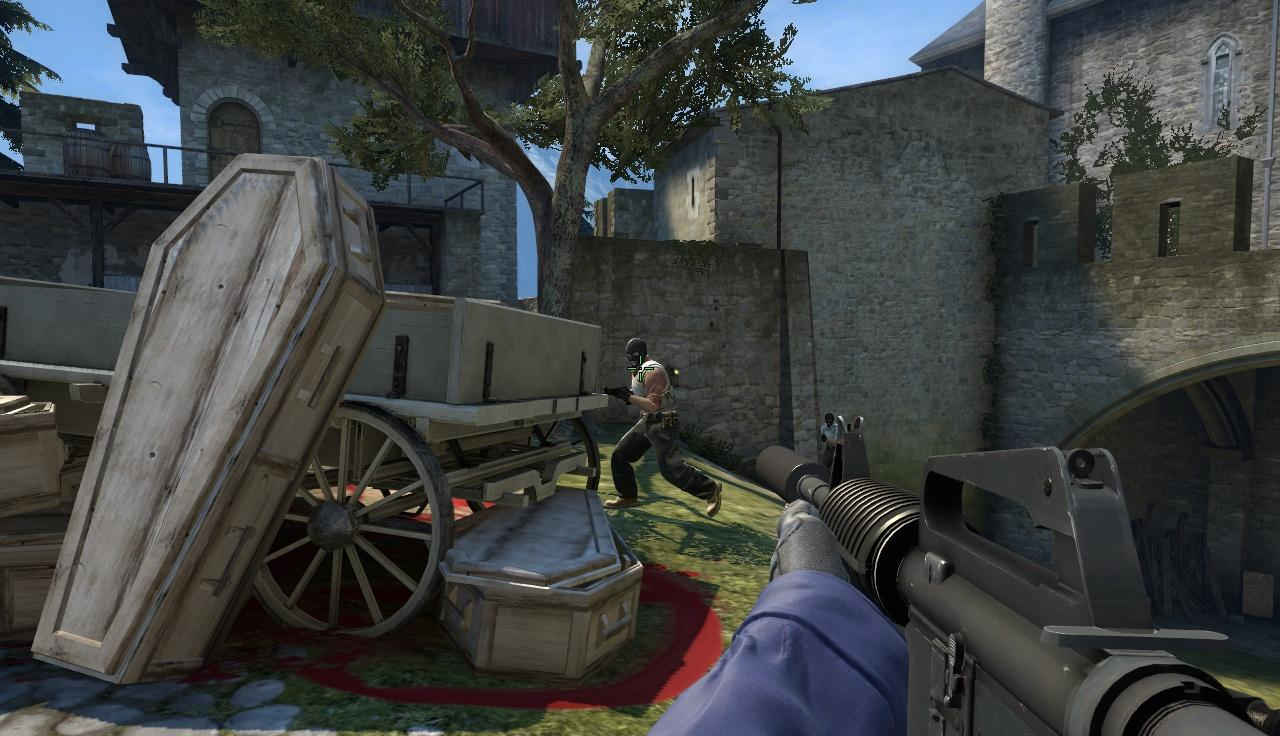rifle: (755, 412, 1280, 736)
tt: (616, 338, 680, 506), (821, 413, 837, 466)
tthead: (626, 339, 646, 367), (825, 413, 834, 426)
